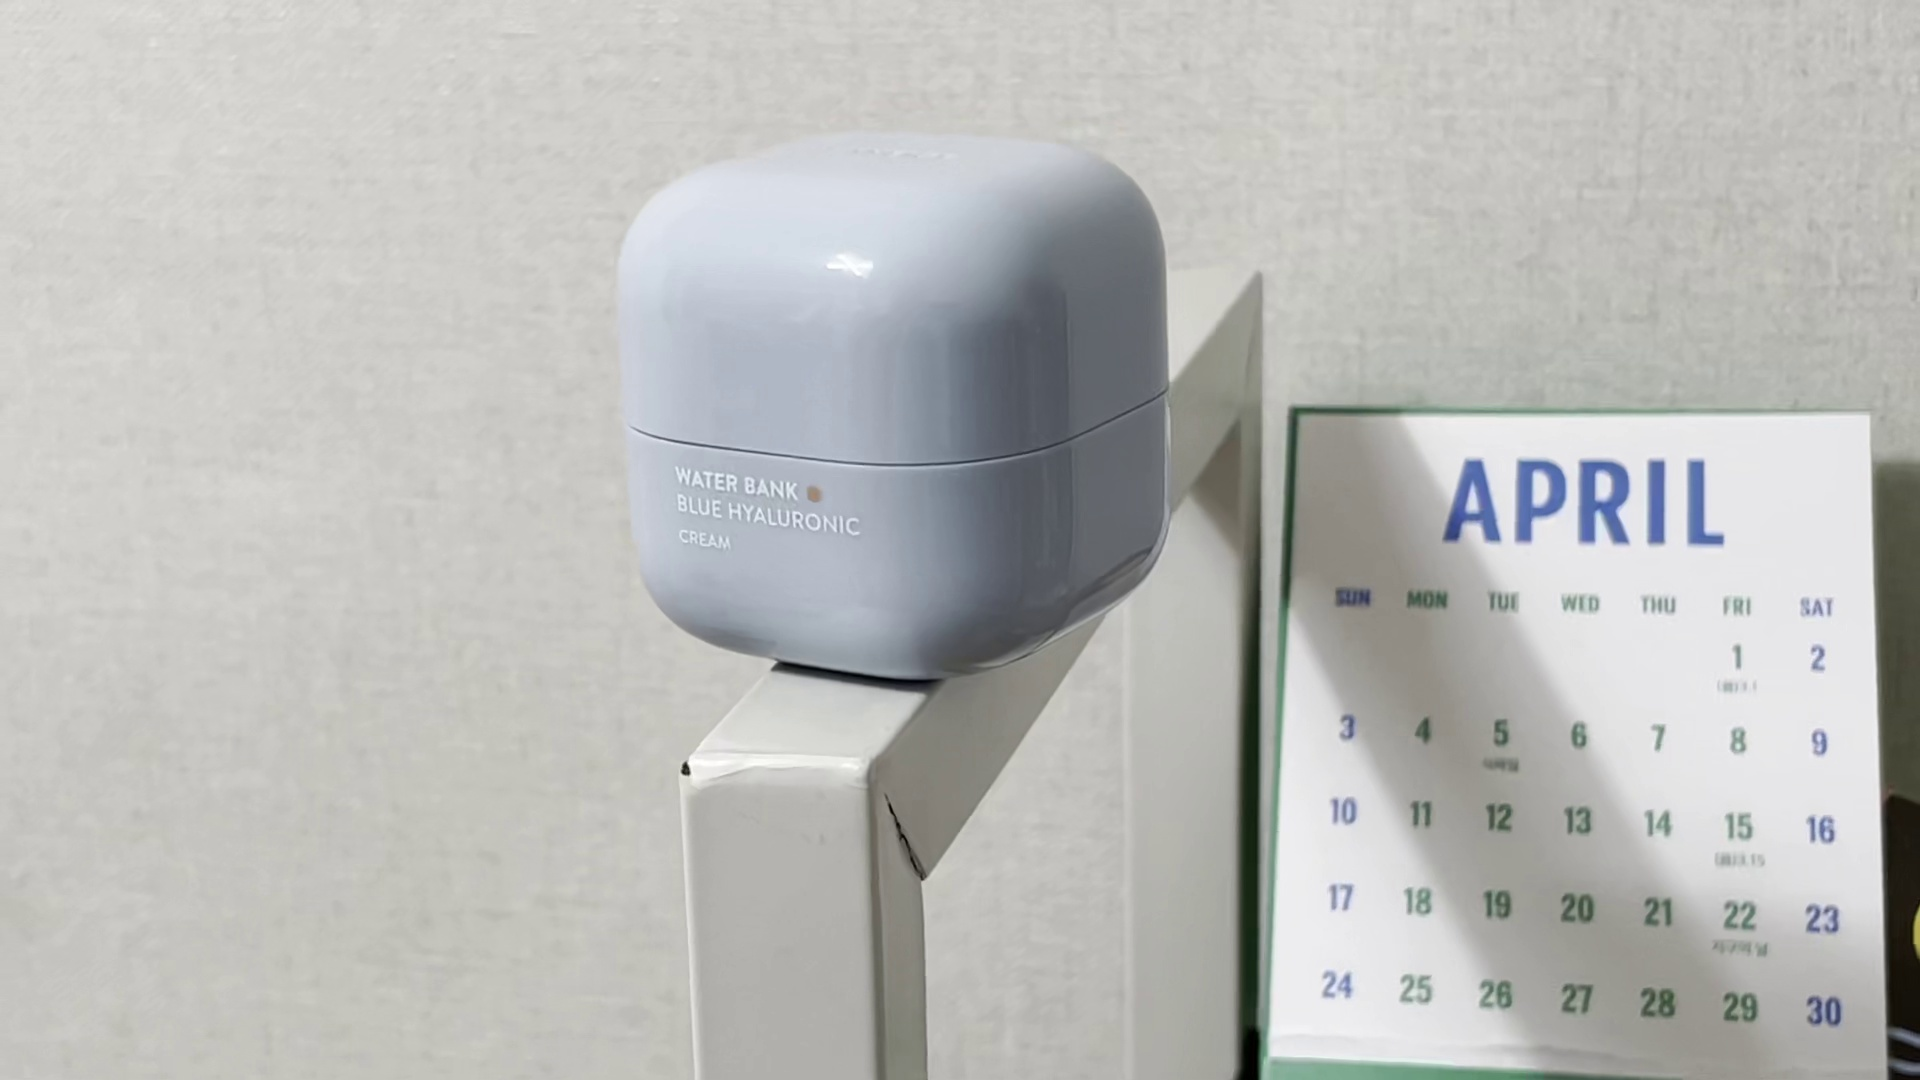cream: (605, 129, 1168, 678)
